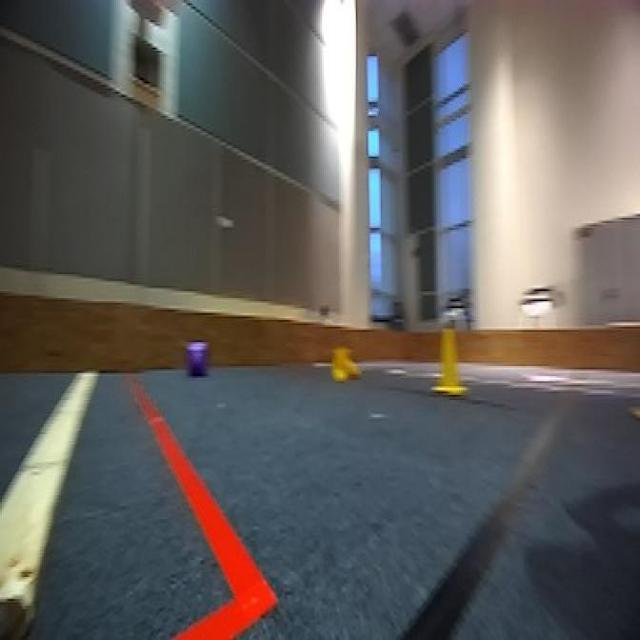frc_cone: (432, 320, 468, 397), (330, 346, 364, 383)
frc_cube: (188, 342, 208, 376)
